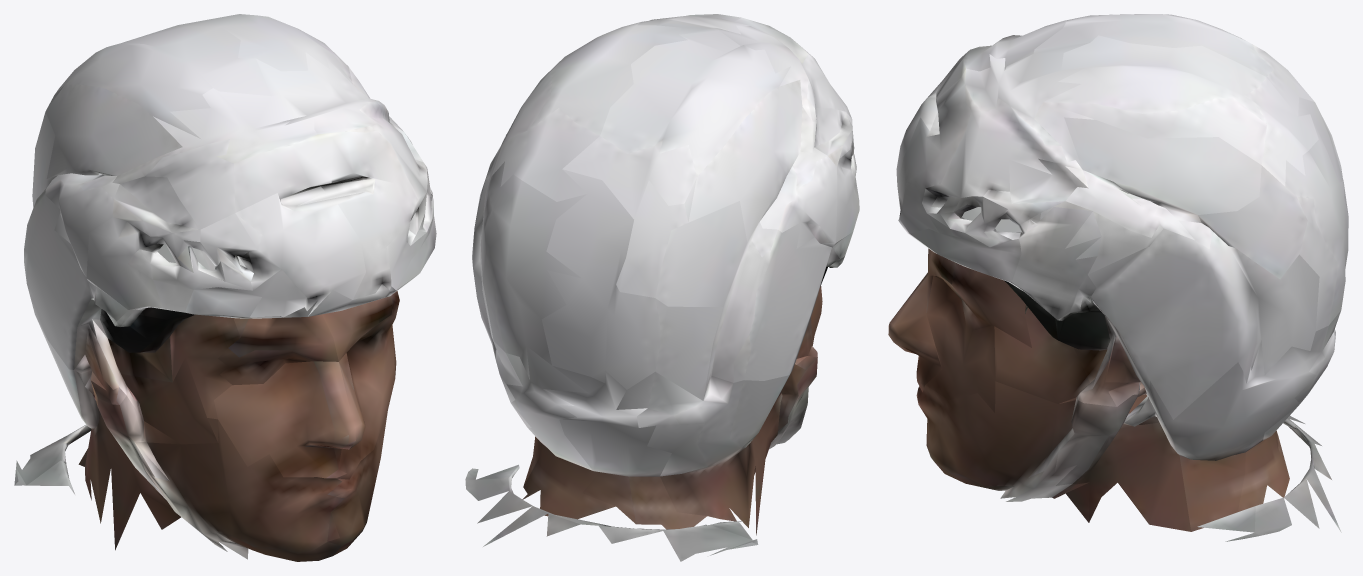
File: head_D_low.glb
3 views of the same model, side by side, from view 1: azimuth 30°, elevation 25°; view 2: azimuth 150°, elevation 25°; view 3: azimuth 270°, elevation 25° (orthographic). The views are drawn at different scales.
Parts seen in each view (by area): view 1: head; view 2: head; view 3: head.
Boxes of the visible parts, left/top/right/bottom form: head: left=14, top=14, right=436, bottom=561; head: left=465, top=14, right=859, bottom=561; head: left=888, top=14, right=1348, bottom=541.
Size of the model in its own units: 0.201 by 0.2905 by 0.2533.
Materials: 1 (1 with a texture image).
